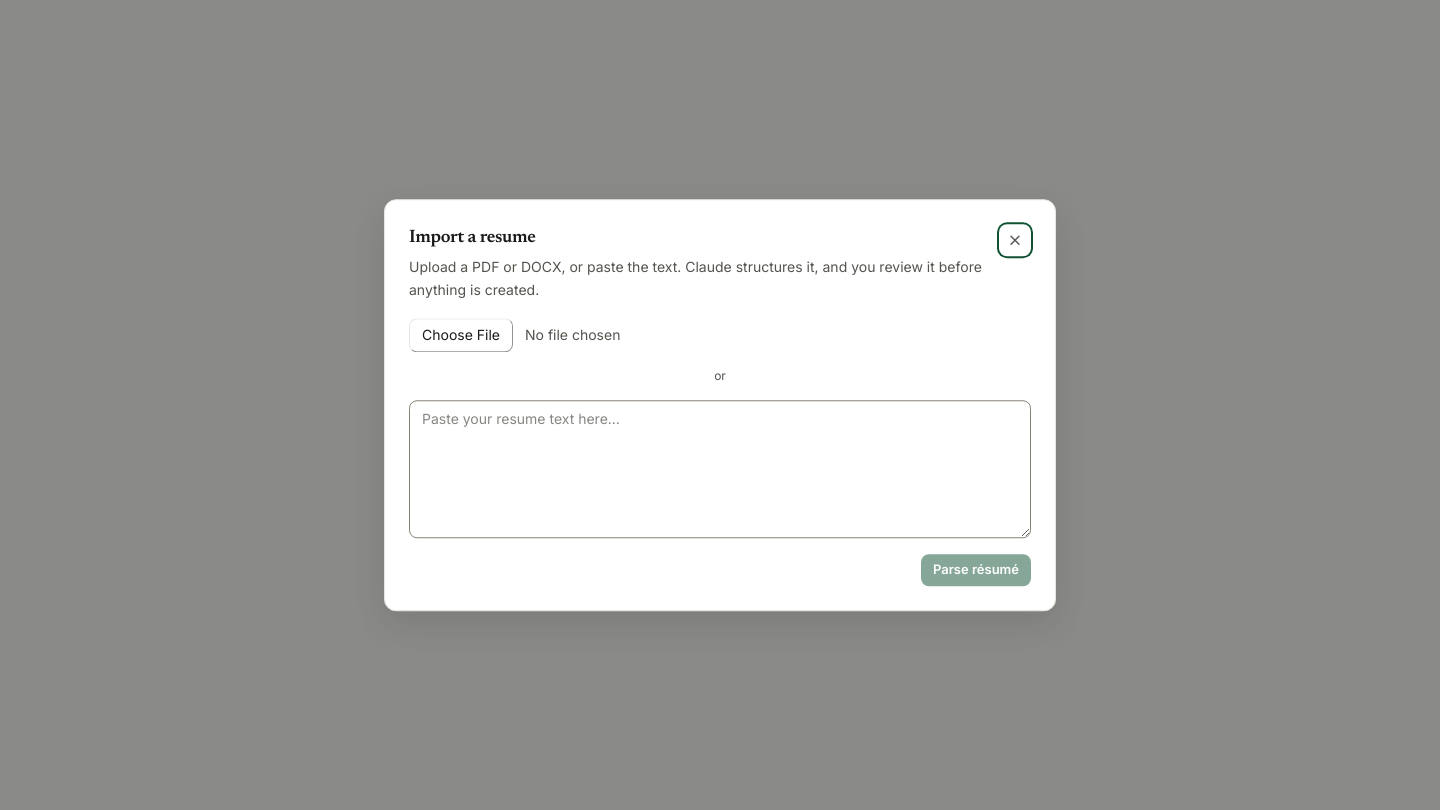
Scenario: ImportResumeModal › shows an error and stays on input when parsing fails
Type "some resume text long enough to clear the minimum length" into the text box labelled "Paste your resume text here…" at (720, 469), box [409, 400, 1031, 538]
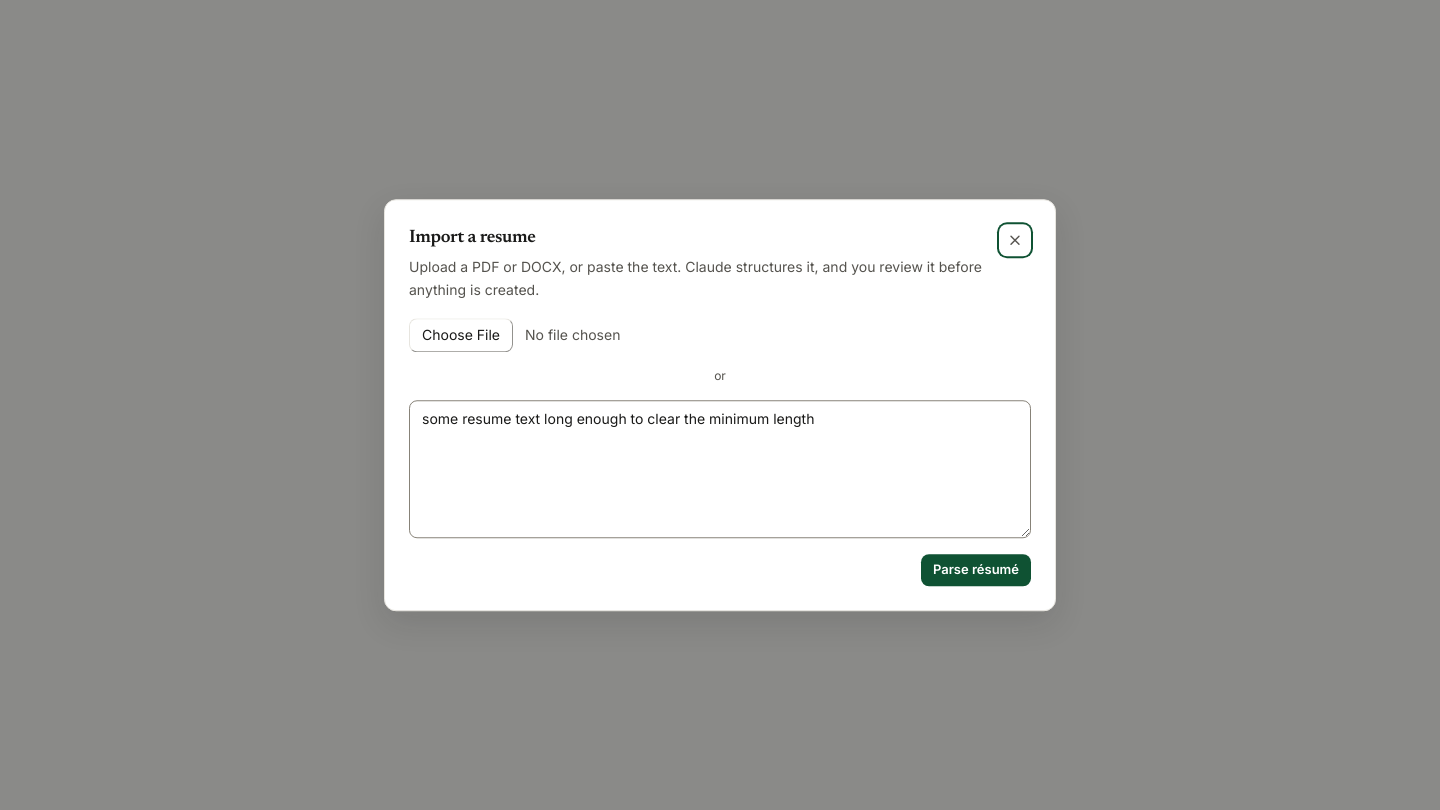
Click the button "Parse résumé" at (976, 570), box [921, 554, 1031, 586]
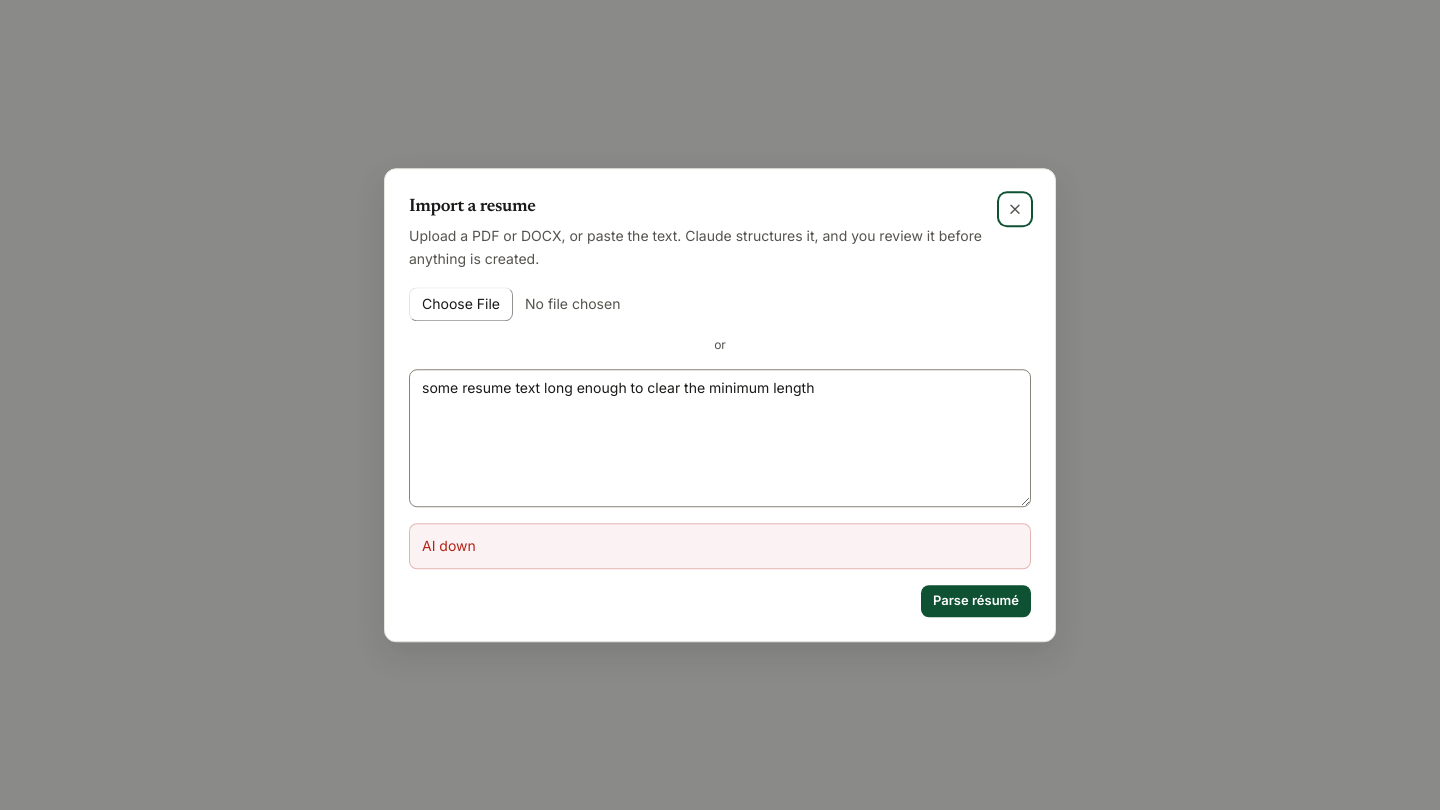
expect the message "AI down" is shown: met, box [409, 523, 1031, 569]
